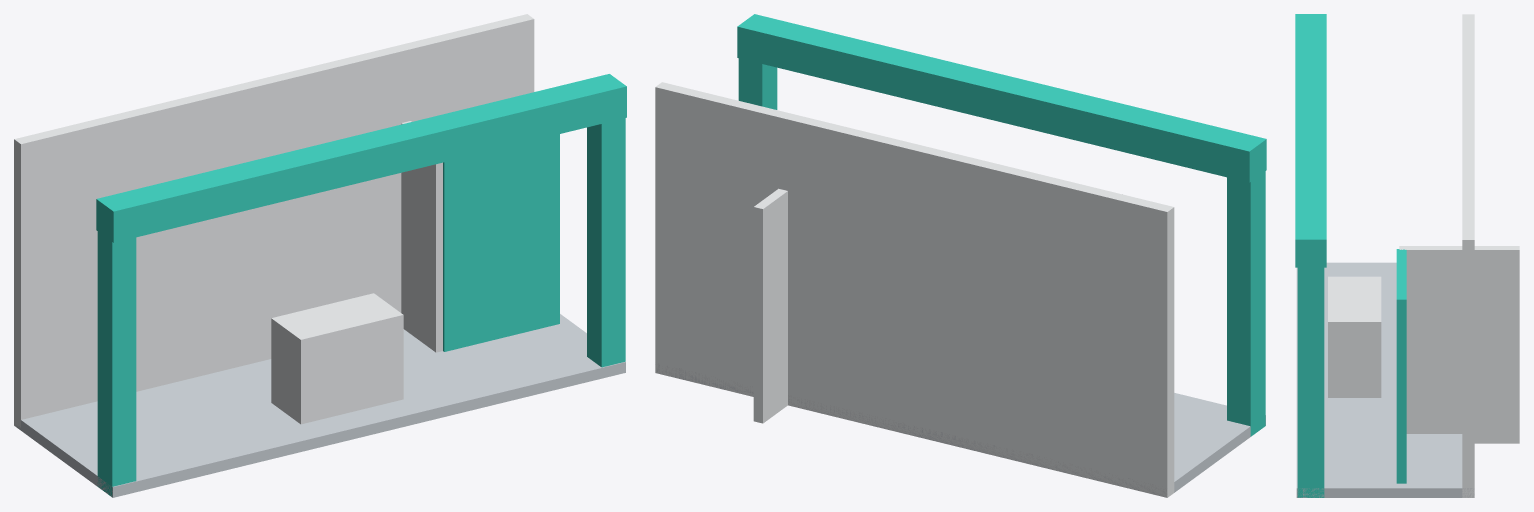
3 renders of one model, left to right at view 1: azimuth 30°, elevation 25°; view 2: azimuth 150°, elevation 25°; view 3: azimuth 270°, elevation 25°, orthographic. The views are drawn at different scales.
Visible parts, largest first — view 1: Exhibition Booth Concept; view 2: Exhibition Booth Concept; view 3: Exhibition Booth Concept.
Part boxes in pixels (x1=…): Exhibition Booth Concept: x1=14, y1=14, x2=626, y2=497; Exhibition Booth Concept: x1=655, y1=14, x2=1266, y2=497; Exhibition Booth Concept: x1=1295, y1=14, x2=1519, y2=497.
Bounding box in the file's own units: 6 × 3.2 × 2.52.
